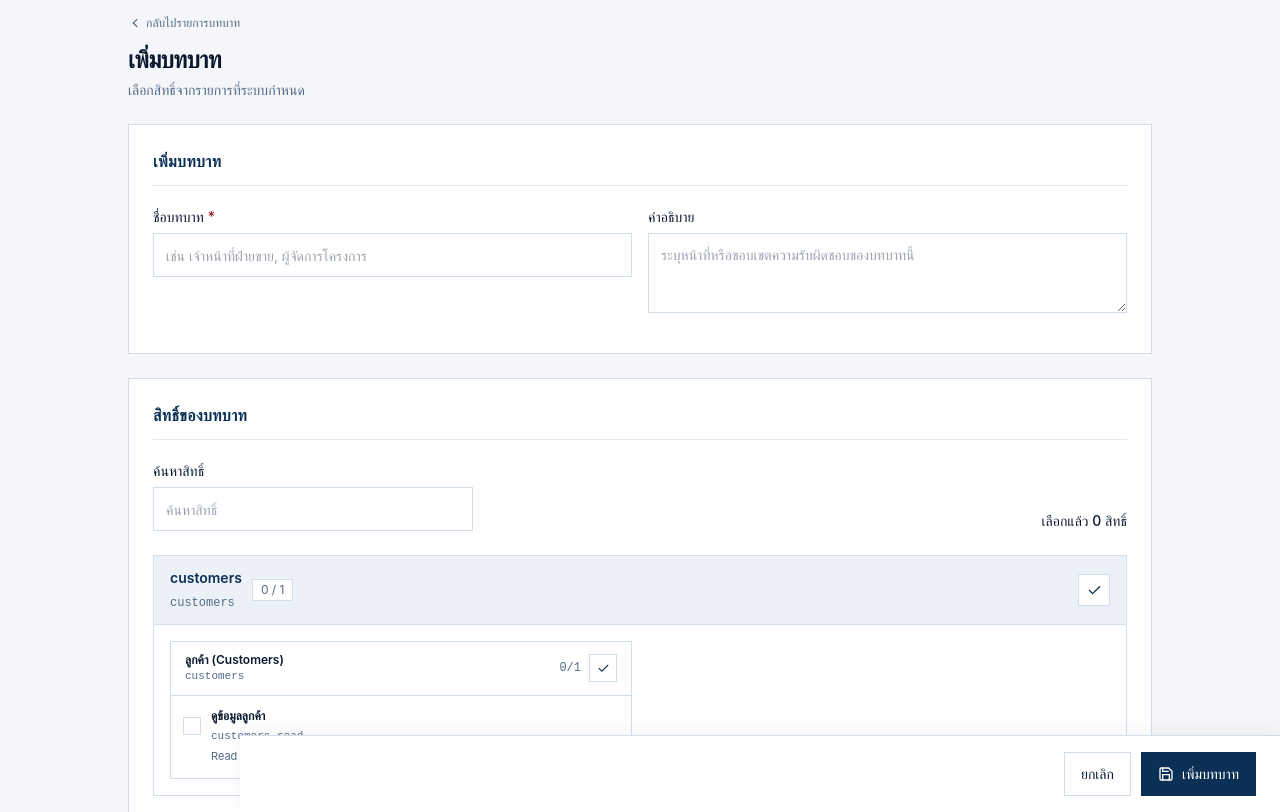
RoleDefinitionEditor › validates the name before creating
Check: the text box with placeholder "ระบุหน้าที่หรือขอบเขตความรับผิดชอบของบทบาทนี้" is shown, box left=648, top=233, right=1127, bottom=313
Type "ab" into the field labelled "ชื่อบทบาท *" at (392, 255), box left=153, top=233, right=632, bottom=277
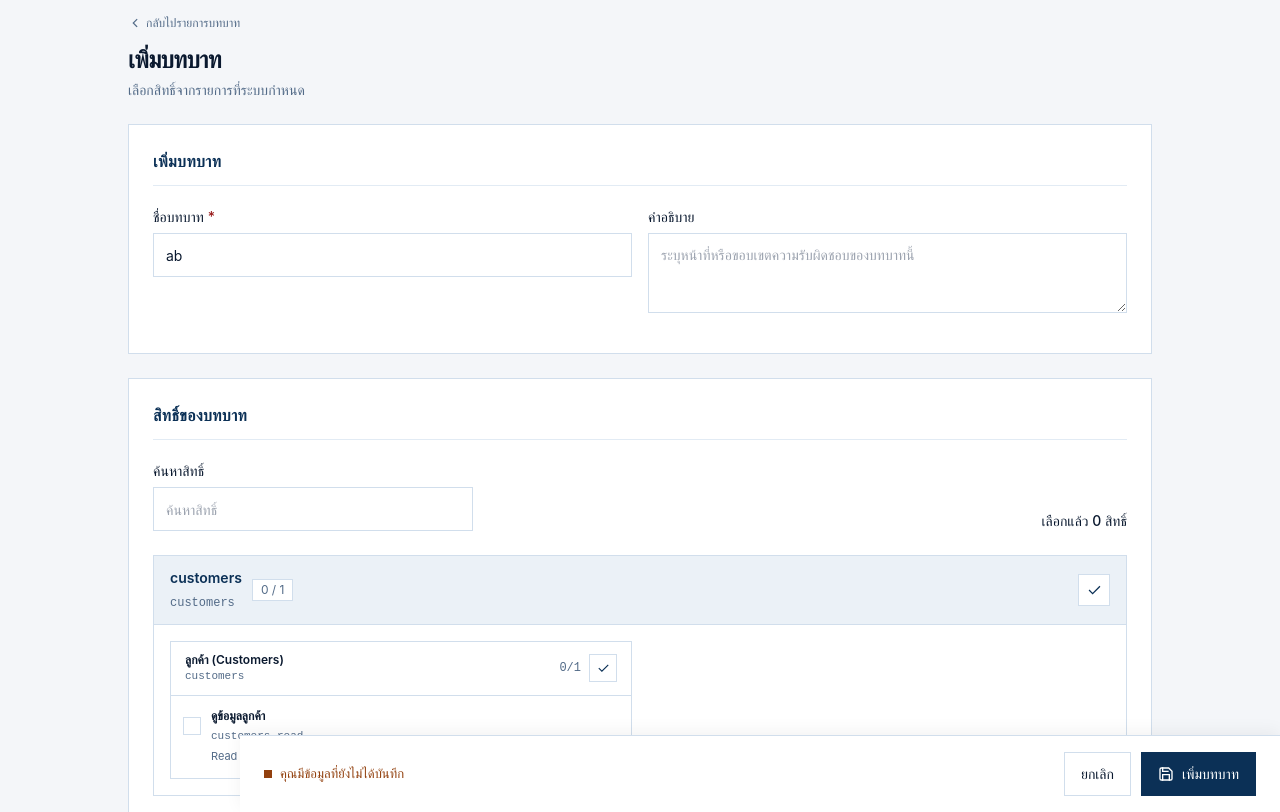
Click the button "เพิ่มบทบาท" at (1198, 774), box left=1141, top=752, right=1256, bottom=796
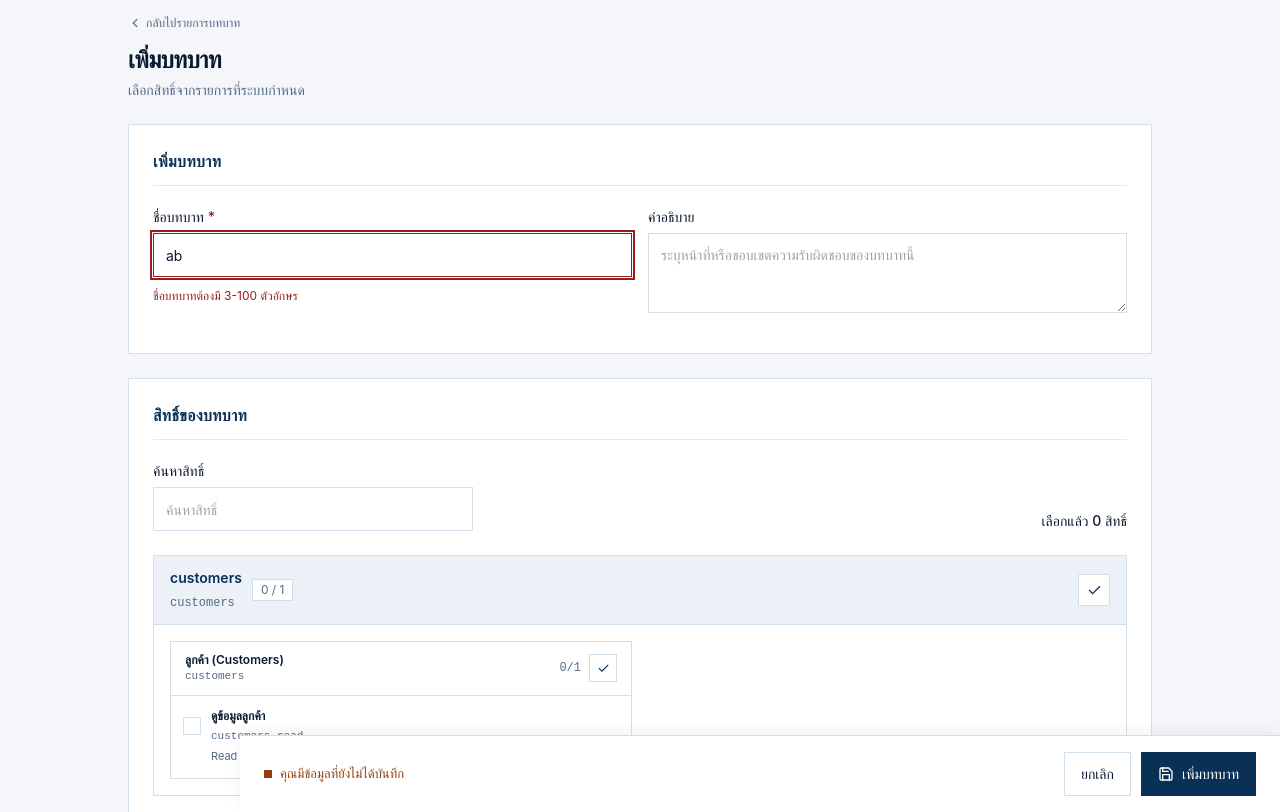
Check: the text "ชื่อบทบาทต้องมี 3-100 ตัวอักษร" is shown, box left=153, top=288, right=298, bottom=303
